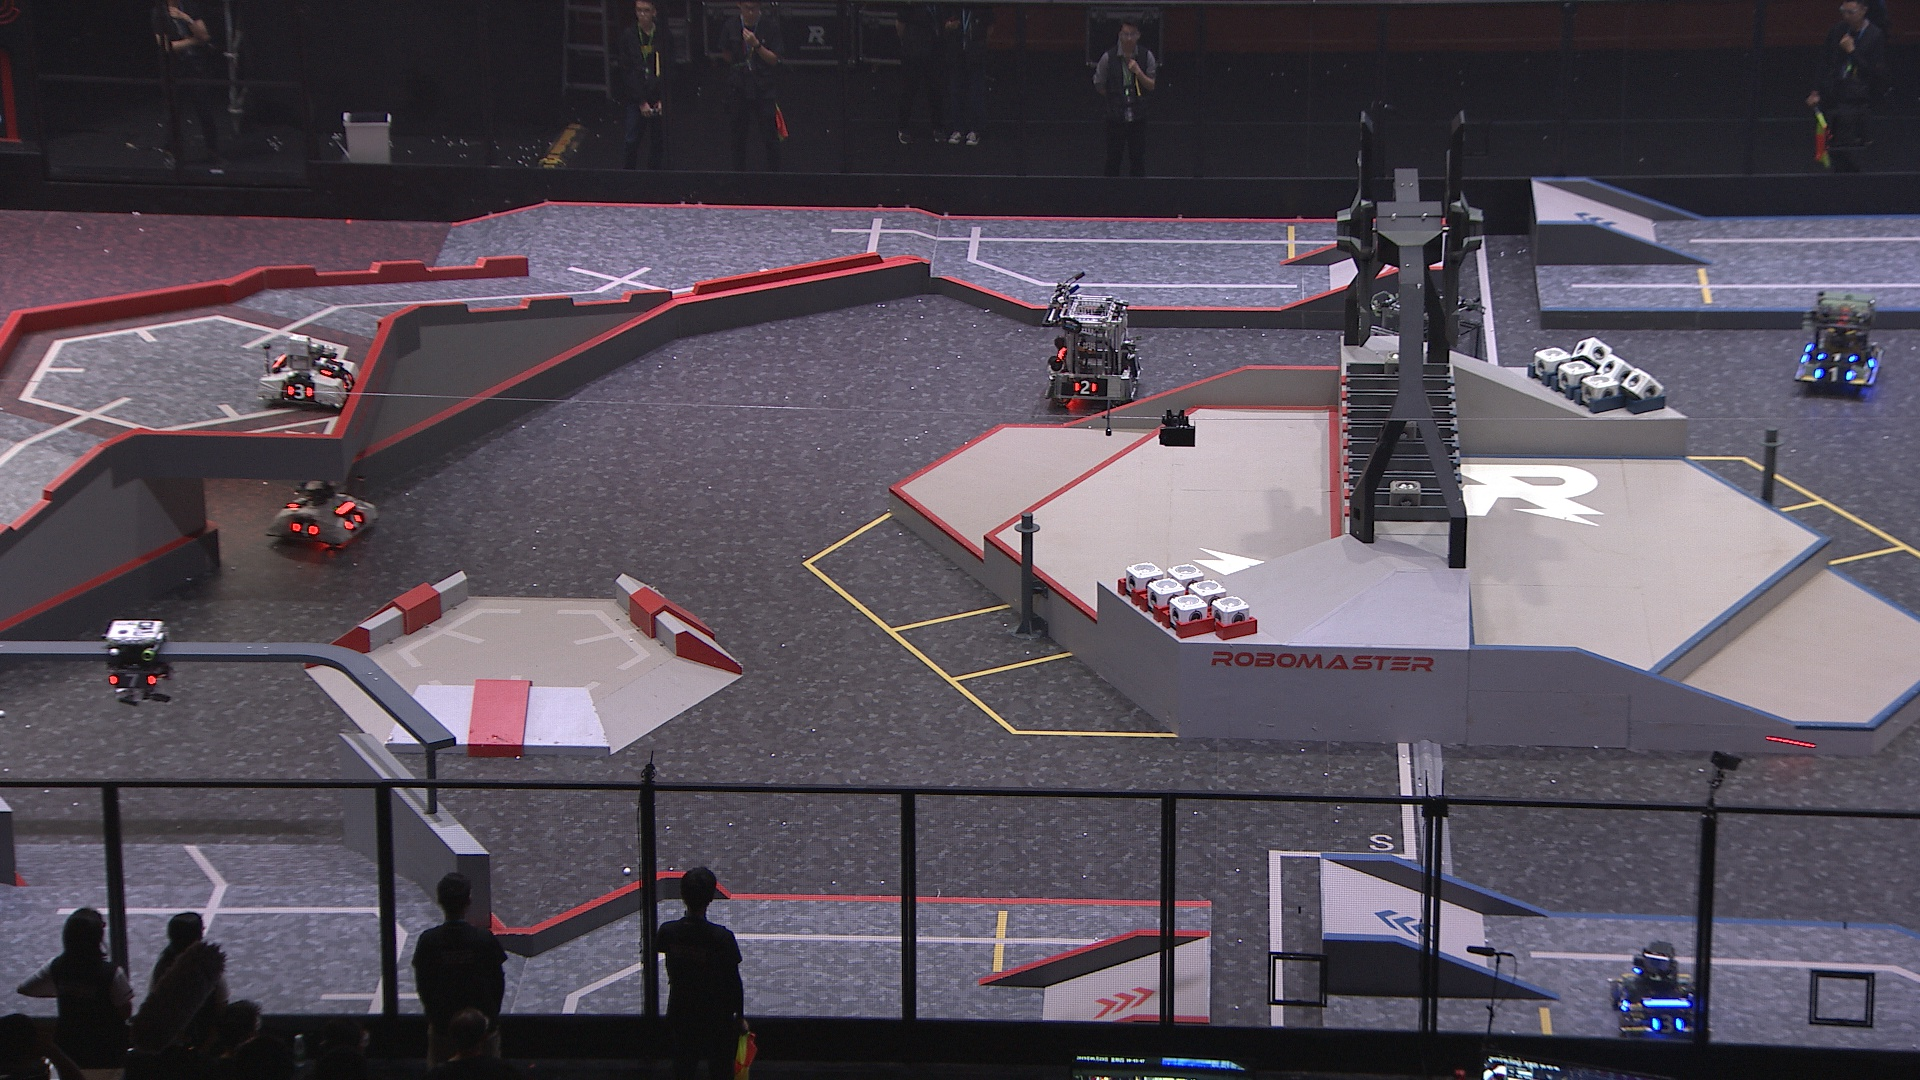armor: (105, 670, 157, 694), (1813, 363, 1855, 386), (1648, 1011, 1685, 1035), (1811, 348, 1859, 365), (287, 516, 319, 542), (339, 506, 367, 533), (1069, 375, 1100, 398), (1610, 982, 1633, 1014), (286, 381, 316, 404), (315, 353, 340, 376), (339, 367, 357, 392), (286, 489, 309, 508)
car: (1371, 286, 1486, 394), (1040, 290, 1145, 406), (1605, 944, 1712, 1040), (258, 471, 384, 553), (1792, 290, 1888, 396), (253, 338, 367, 411)
watcher: (100, 616, 178, 712)
